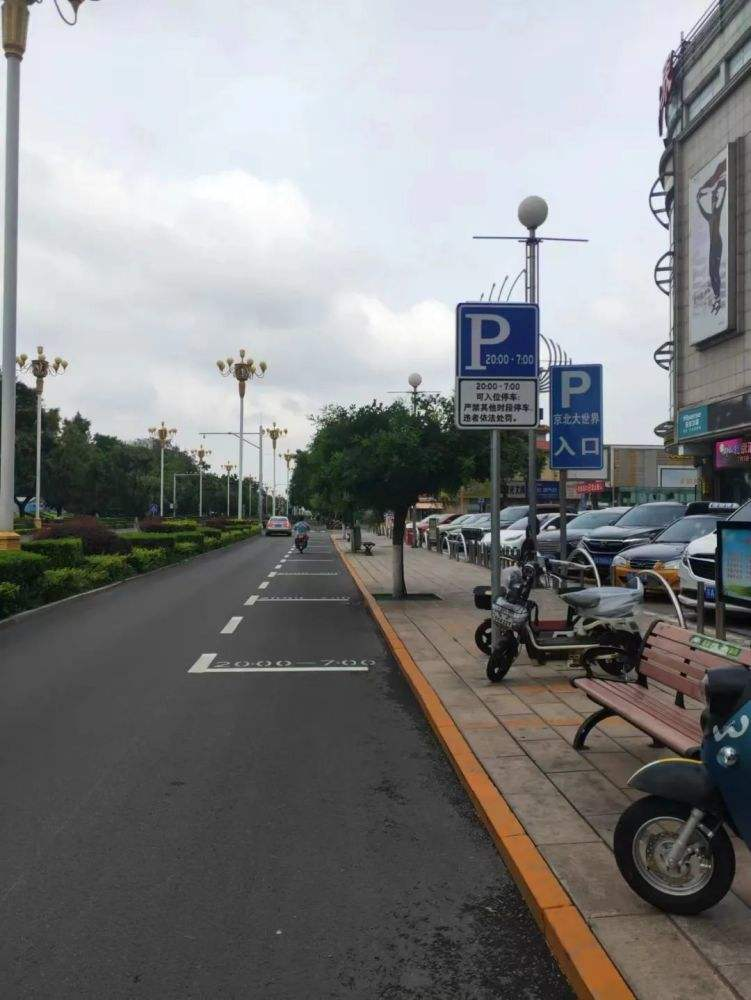slot_nocar: (187, 585, 410, 690), (235, 559, 374, 609), (275, 545, 359, 580)
